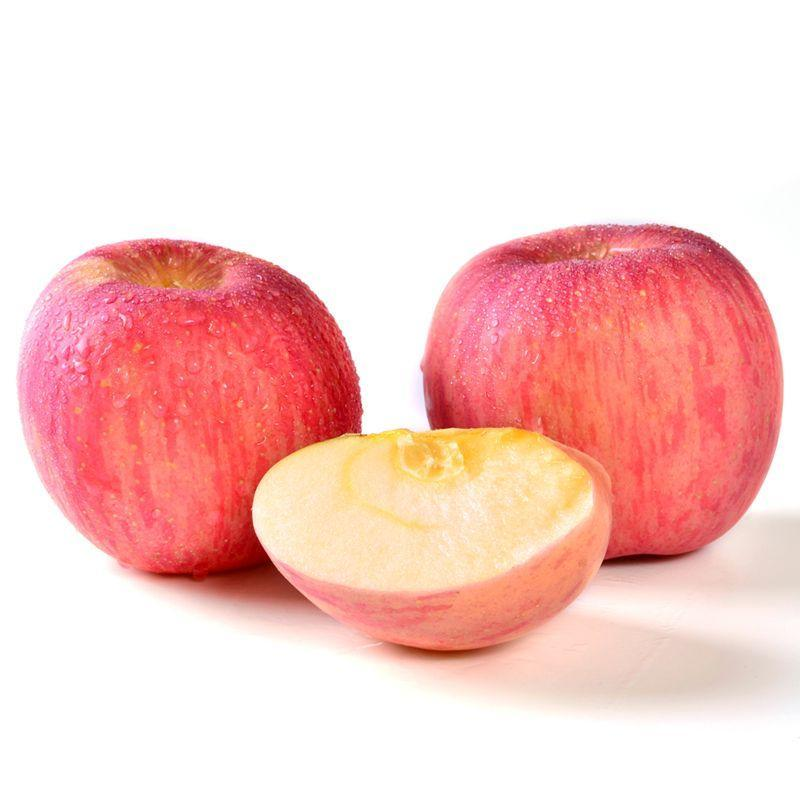apple: (434, 221, 796, 569), (13, 244, 365, 580)
